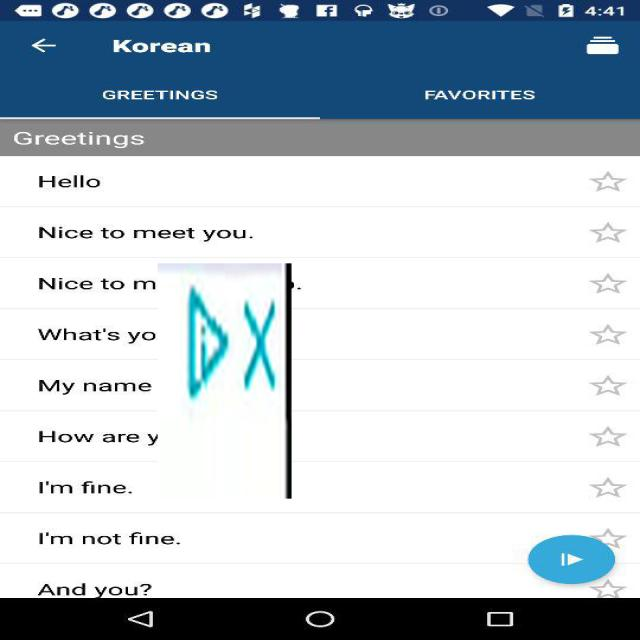sneaking: (158, 263, 292, 499)
